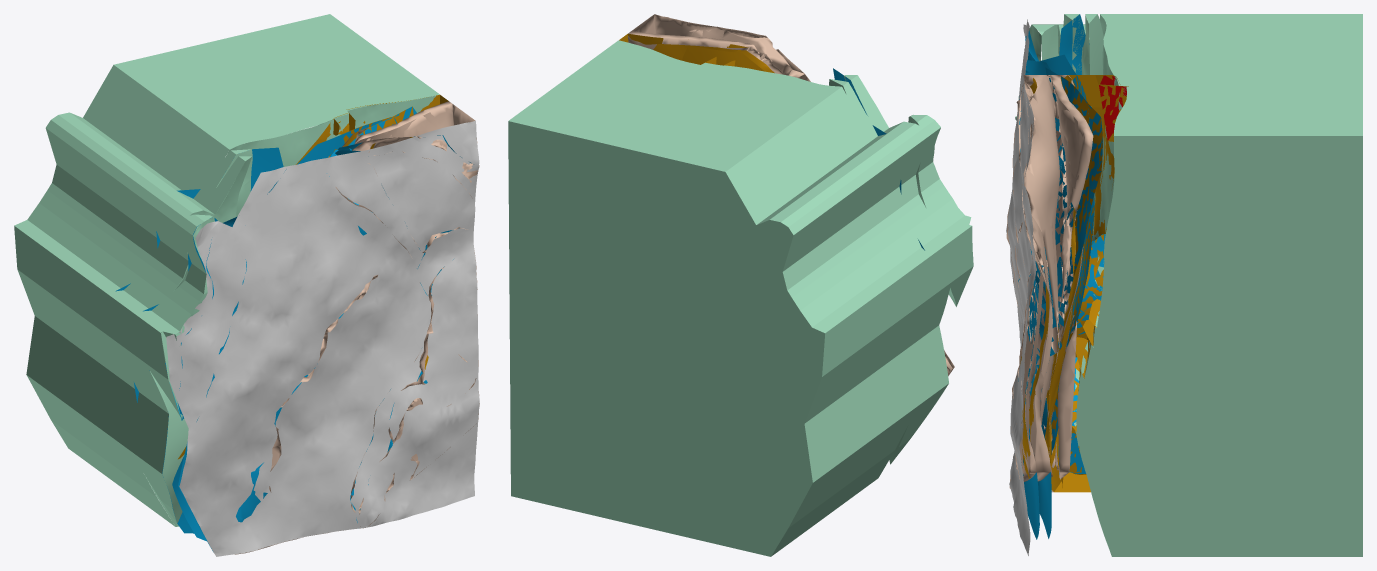
3 views of the same model, side by side, from view 1: azimuth 30°, elevation 25°; view 2: azimuth 150°, elevation 25°; view 3: azimuth 270°, elevation 25° (orthographic). The views are drawn at different scales.
Parts seen in each view (by area): view 1: DEM_DEM_DEM, UNIT_Apulo-Appennin._UNT_0004_001, HORIZON_Base_Sil_Autoct_SRF_0004_001, UNIT_Falda Molisana_UNT_0001_001, UNIT_Falda Molisana_UNT_0002_001, FAULT_INTRA_ALL_2_FLT_0006_002, FAULT_S-V_3_FLT_0002_003, UNIT_Falda Molisana_UNT_0003_001, FAULT_ALL_VS_NW_2_FLT_0003_002, HORIZON_Top_ICM_SRF_0002_001; view 2: UNIT_Apulo-Appennin._UNT_0004_001, UNIT_Falda Molisana_UNT_0001_001, UNIT_Falda Molisana_UNT_0003_001, UNIT_Falda Molisana_UNT_0002_001; view 3: UNIT_Apulo-Appennin._UNT_0004_001, UNIT_Falda Molisana_UNT_0001_001, UNIT_Falda Molisana_UNT_0003_001, DEM_DEM_DEM, UNIT_Falda Molisana_UNT_0002_001, FAULT_ALL_MNTNRDM_4_FLT_0005_004, HORIZON_Base_Sil_Autoct_SRF_0004_001, HORIZON_Top_ICM_SRF_0002_001, HORIZON_Top_AVL_SRF_0003_001, FAULT_INTRA_ALL_2_FLT_0006_002, FAULT_ALL_MNTNRDM_1_FLT_0005_001, FAULT_ALL_VS_SE_1_FLT_0004_001 (+4 smaller).
Boxes of the visible parts, <box> form: DEM_DEM_DEM: <box>166,120,479,556</box>; UNIT_Apulo-Appennin._UNT_0004_001: <box>14,14,439,526</box>; HORIZON_Base_Sil_Autoct_SRF_0004_001: <box>144,95,436,526</box>; UNIT_Falda Molisana_UNT_0001_001: <box>235,104,479,554</box>; UNIT_Falda Molisana_UNT_0002_001: <box>342,101,467,477</box>; FAULT_INTRA_ALL_2_FLT_0006_002: <box>172,118,396,541</box>; FAULT_S-V_3_FLT_0002_003: <box>115,147,283,533</box>; UNIT_Falda Molisana_UNT_0003_001: <box>178,94,448,459</box>; FAULT_ALL_VS_NW_2_FLT_0003_002: <box>178,226,366,550</box>; HORIZON_Top_ICM_SRF_0002_001: <box>354,112,474,501</box>; UNIT_Apulo-Appennin._UNT_0004_001: <box>508,40,973,556</box>; UNIT_Falda Molisana_UNT_0001_001: <box>632,14,954,375</box>; UNIT_Falda Molisana_UNT_0003_001: <box>619,33,774,73</box>; UNIT_Falda Molisana_UNT_0002_001: <box>628,26,950,372</box>; UNIT_Apulo-Appennin._UNT_0004_001: <box>1015,14,1362,556</box>; UNIT_Falda Molisana_UNT_0001_001: <box>1006,75,1076,488</box>; UNIT_Falda Molisana_UNT_0003_001: <box>1046,75,1128,492</box>; DEM_DEM_DEM: <box>1006,19,1035,555</box>; UNIT_Falda Molisana_UNT_0002_001: <box>1012,75,1093,492</box>; FAULT_ALL_MNTNRDM_4_FLT_0005_004: <box>1045,67,1102,309</box>; HORIZON_Base_Sil_Autoct_SRF_0004_001: <box>1029,14,1118,444</box>; HORIZON_Top_ICM_SRF_0002_001: <box>1016,89,1078,474</box>; HORIZON_Top_AVL_SRF_0003_001: <box>1020,75,1082,478</box>; FAULT_INTRA_ALL_2_FLT_0006_002: <box>1039,54,1094,474</box>; FAULT_ALL_MNTNRDM_1_FLT_0005_001: <box>1019,60,1064,356</box>; FAULT_ALL_VS_SE_1_FLT_0004_001: <box>1018,274,1039,539</box>.
Size of the model in its own units: 19672 by 22330 by 16998.
